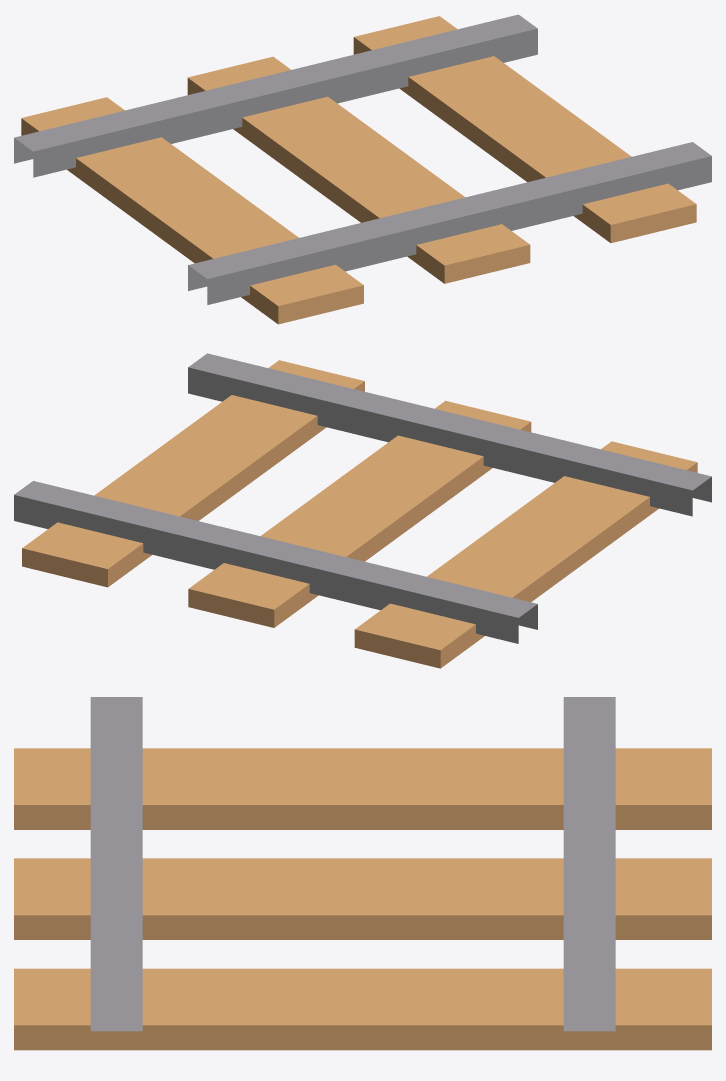
The model's file is caleferata.gltf.
3 renders of one model, top to bottom at view 1: azimuth 30°, elevation 25°; view 2: azimuth 150°, elevation 25°; view 3: azimuth 270°, elevation 25°, orthographic. The views are drawn at different scales.
Visible parts, largest first — view 1: Plane.000, Plane.001, Lemn1.002, Lemn1.001, Lemn1; view 2: Plane.001, Plane.000, Lemn1.001, Lemn1, Lemn1.002; view 3: Lemn1.002, Lemn1.001, Lemn1, Plane.000, Plane.001.
Part boxes in pixels (x1,y1,x2,y2): Plane.000: (14,14,537,177); Plane.001: (188,142,711,304); Lemn1.002: (353,16,696,243); Lemn1.001: (187,56,530,283); Lemn1: (21,97,363,324); Plane.001: (188,353,711,516); Plane.000: (14,481,537,643); Lemn1.001: (188,400,531,627); Lemn1: (354,441,697,668); Lemn1.002: (22,360,364,587); Lemn1.002: (14,968,711,1050); Lemn1.001: (14,858,711,939); Lemn1: (14,748,711,829); Plane.000: (563,697,615,1031); Plane.001: (90,697,142,1031).
Size of the model in its own units: 1.82 by 0.1211 by 1.61.
